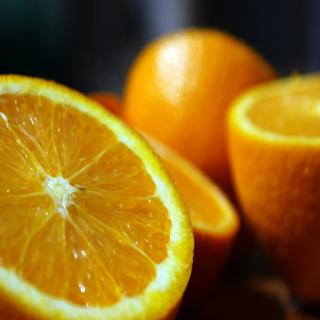Orange: (0, 75, 195, 318), (122, 30, 270, 181), (228, 75, 320, 302), (127, 123, 242, 284)
